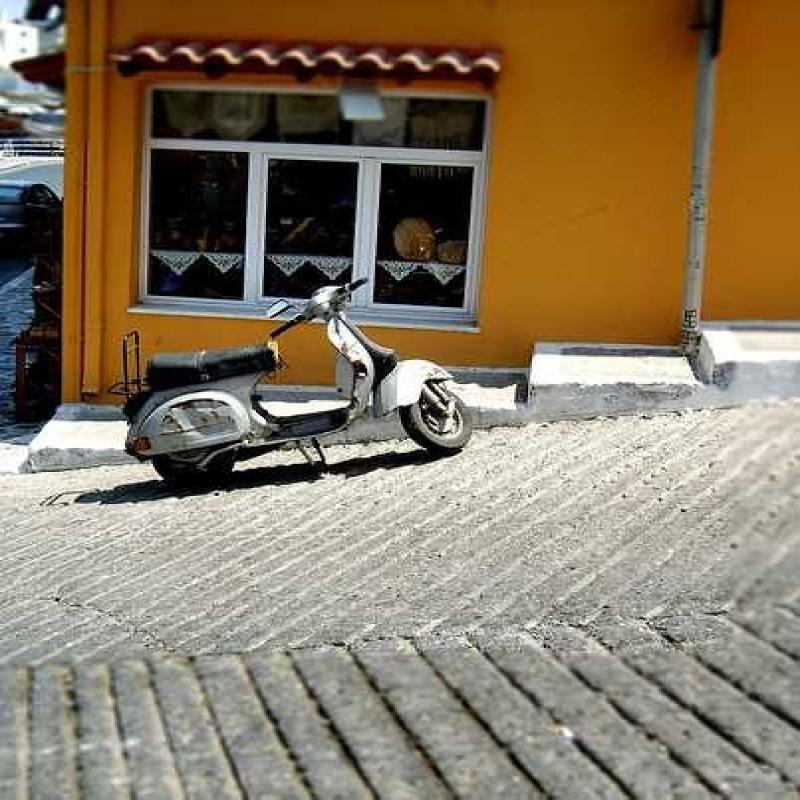bike: (135, 270, 475, 499)
